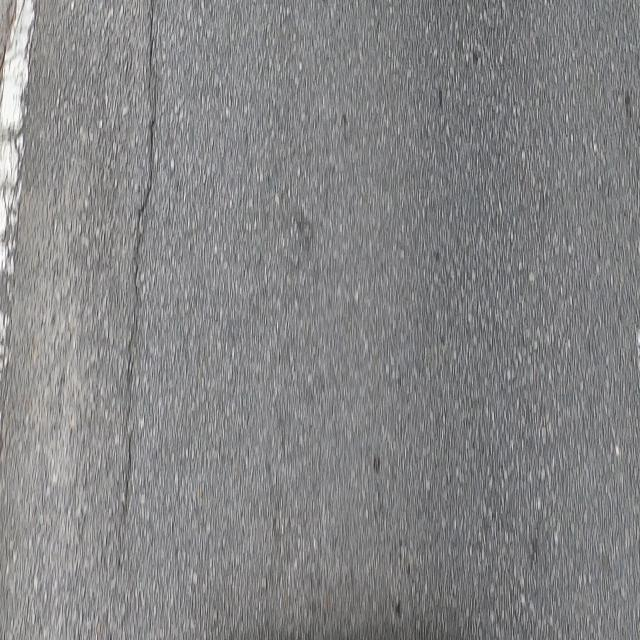Retak-Memanjang: (115, 2, 161, 529)
